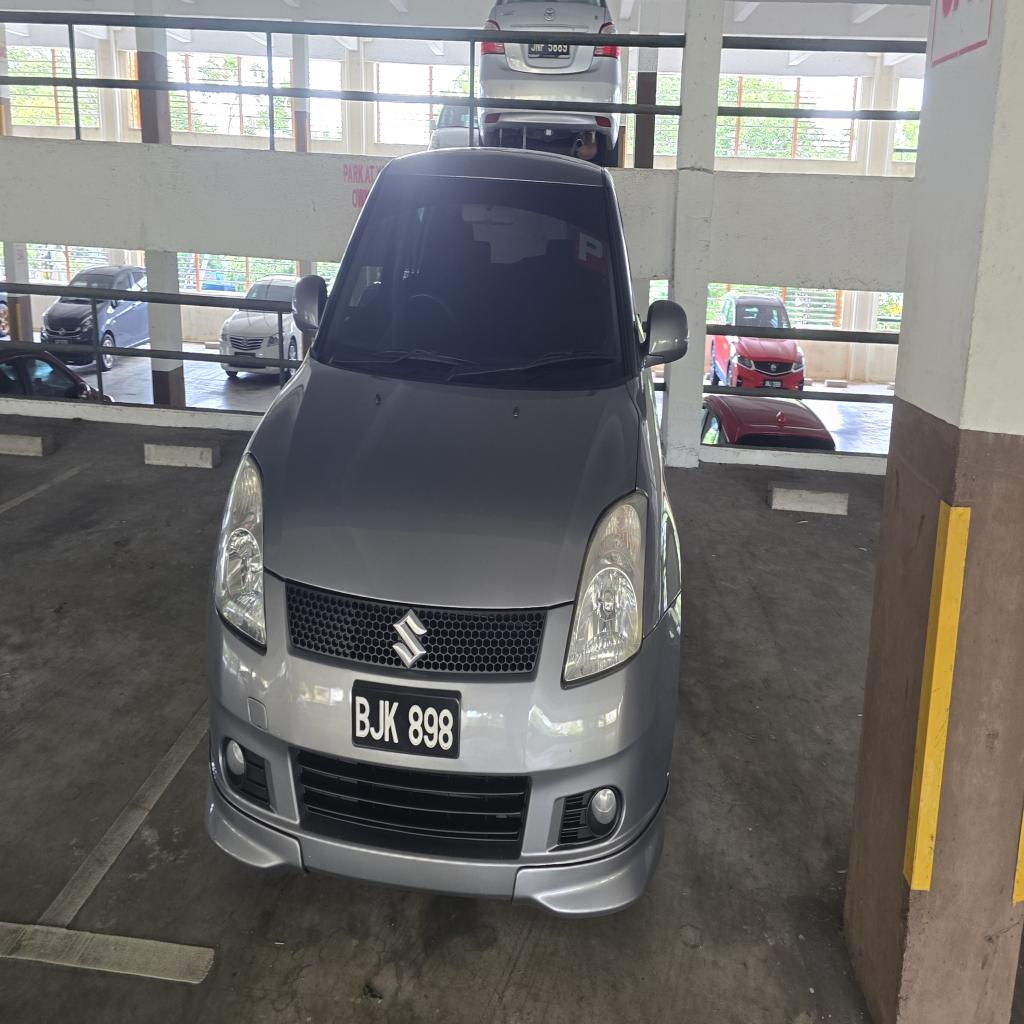car: (207, 150, 687, 916)
car plate: (351, 682, 459, 758)
